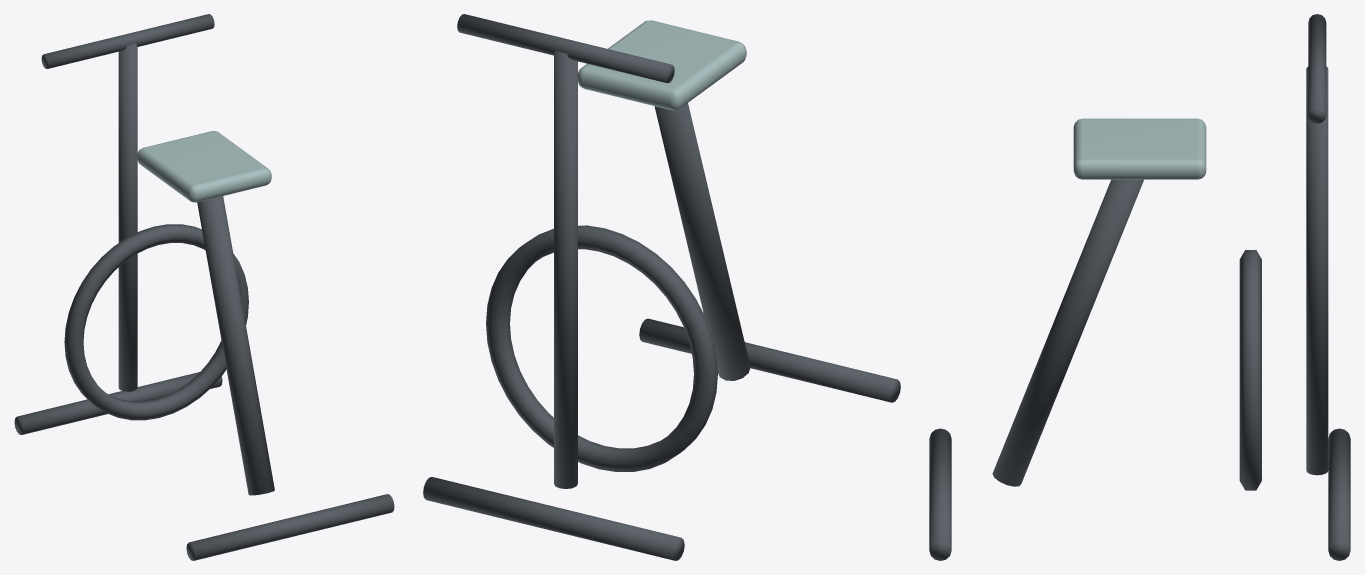
The model's file is atelier-exercise-bike.glb.
3 views of the same model, side by side, from view 1: azimuth 30°, elevation 25°; view 2: azimuth 150°, elevation 25°; view 3: azimuth 270°, elevation 25° (orthographic). The views are drawn at different scales.
Parts seen in each view (by area): view 1: metal.202, fabric.105; view 2: metal.202, fabric.105; view 3: metal.202, fabric.105.
Boxes of the visible parts, x1=… form: metal.202: x1=14, y1=14, x2=394, y2=560; fabric.105: x1=137, y1=131, x2=271, y2=202; metal.202: x1=423, y1=14, x2=900, y2=560; fabric.105: x1=578, y1=20, x2=746, y2=110; metal.202: x1=929, y1=14, x2=1350, y2=560; fabric.105: x1=1073, y1=118, x2=1206, y2=179.
Bounding box in the file's own units: 0.6 × 1.11 × 0.95.
